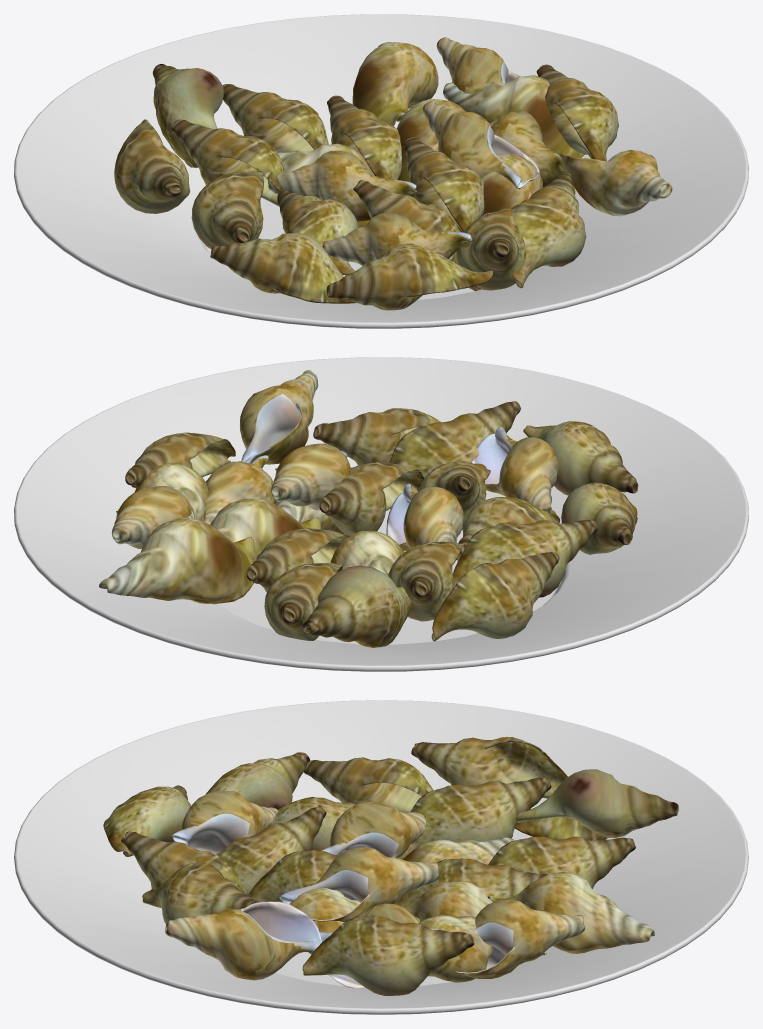
File: Shells.glb
The picture shows the model from 3 angles, top to bottom: view 1: azimuth 30°, elevation 25°; view 2: azimuth 150°, elevation 25°; view 3: azimuth 270°, elevation 25°; orthographic projection.
Visible parts, largest first — view 1: Shells; view 2: Shells; view 3: Shells.
Boxes of the visible parts, x1,y1,x2,y2 form: Shells: [14, 14, 748, 328]; Shells: [14, 357, 748, 671]; Shells: [14, 700, 748, 1014].
Size of the model in its own units: 0.2393 by 0.0396 by 0.2393.
Materials: 2 (1 with a texture image).
